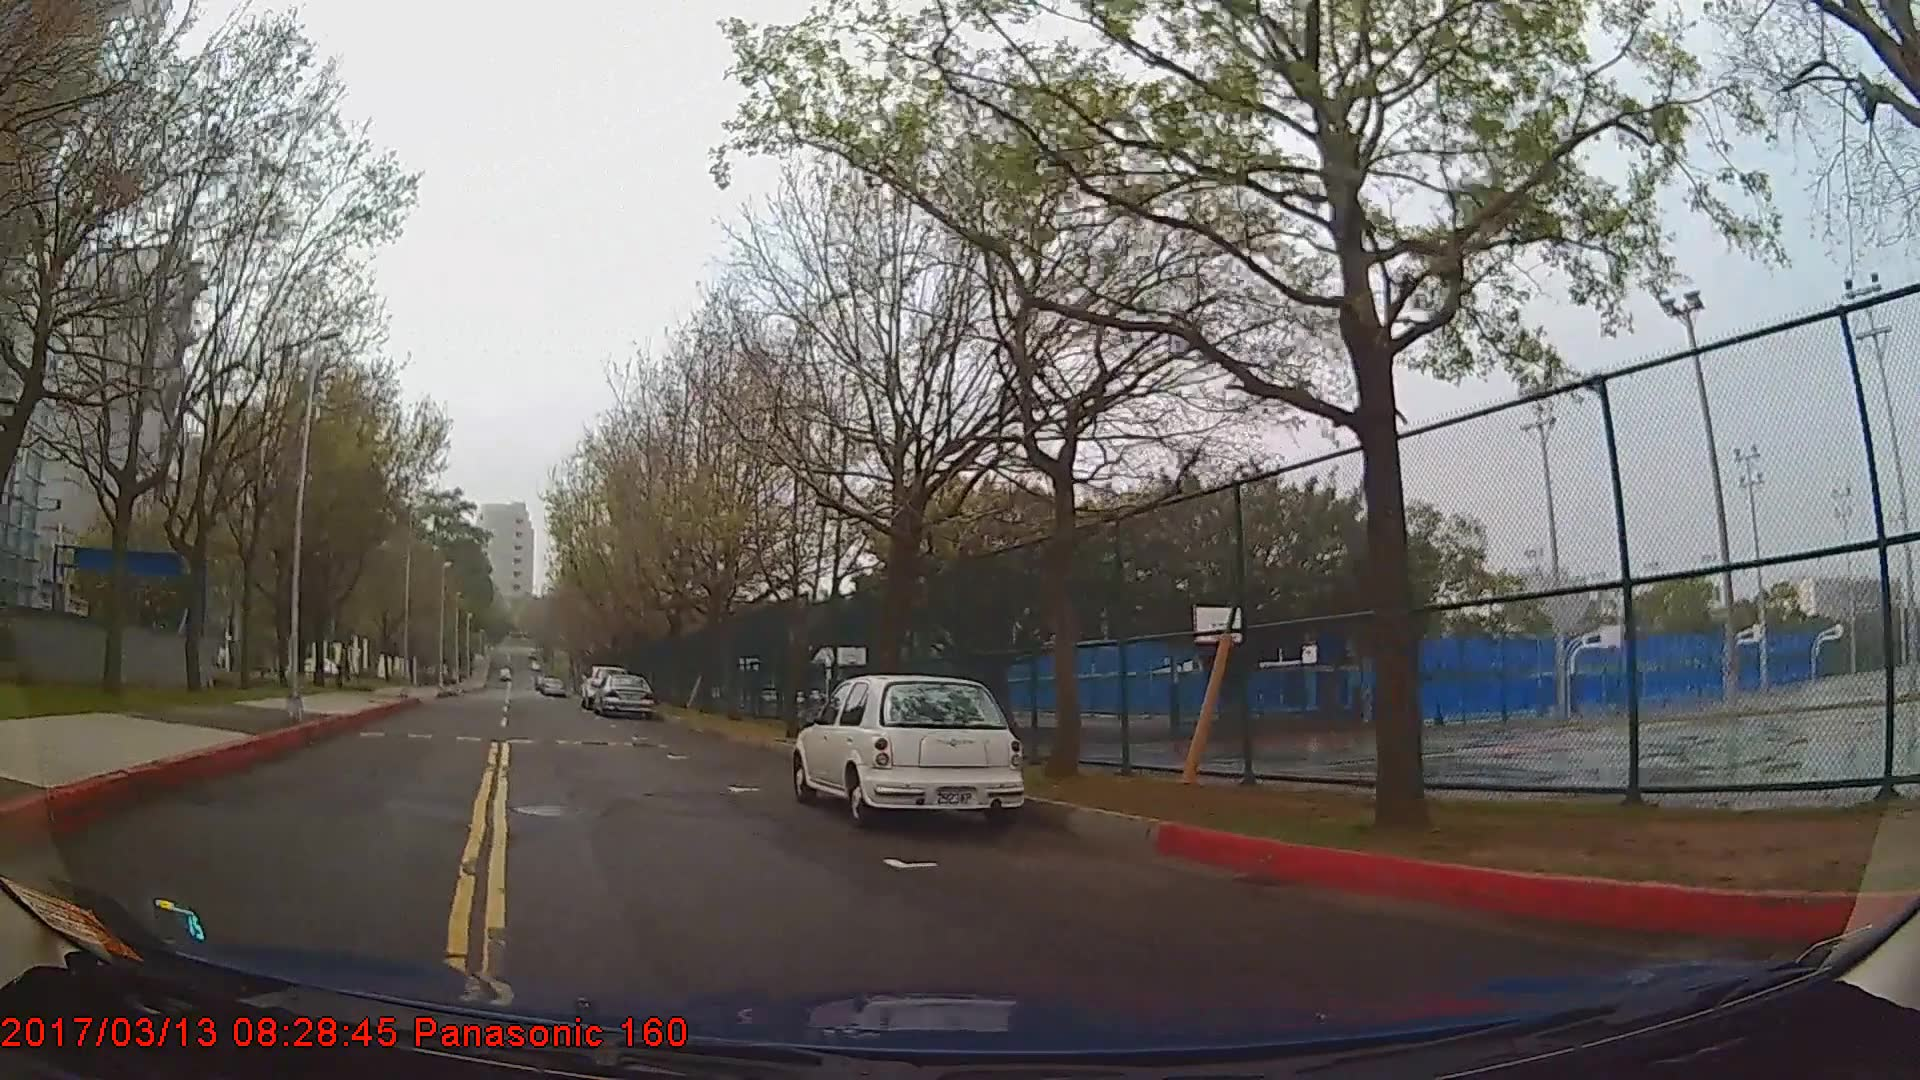vehicle: (789, 674, 1025, 825), (596, 671, 653, 715)
